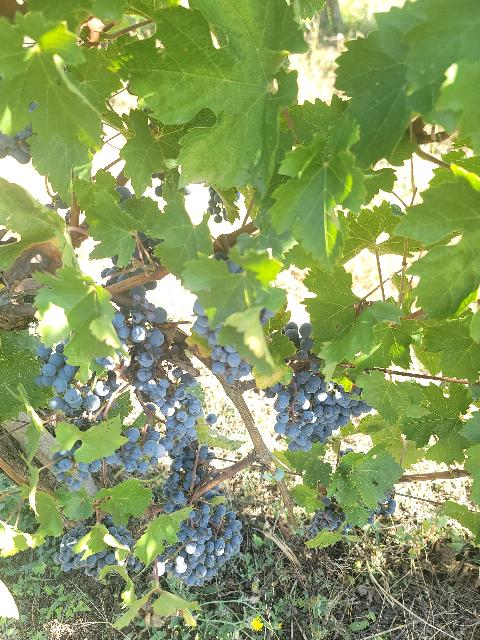grapes: (134, 350, 202, 445), (159, 512, 243, 586), (296, 371, 372, 438), (264, 376, 316, 451), (105, 428, 168, 474), (164, 450, 195, 505)
